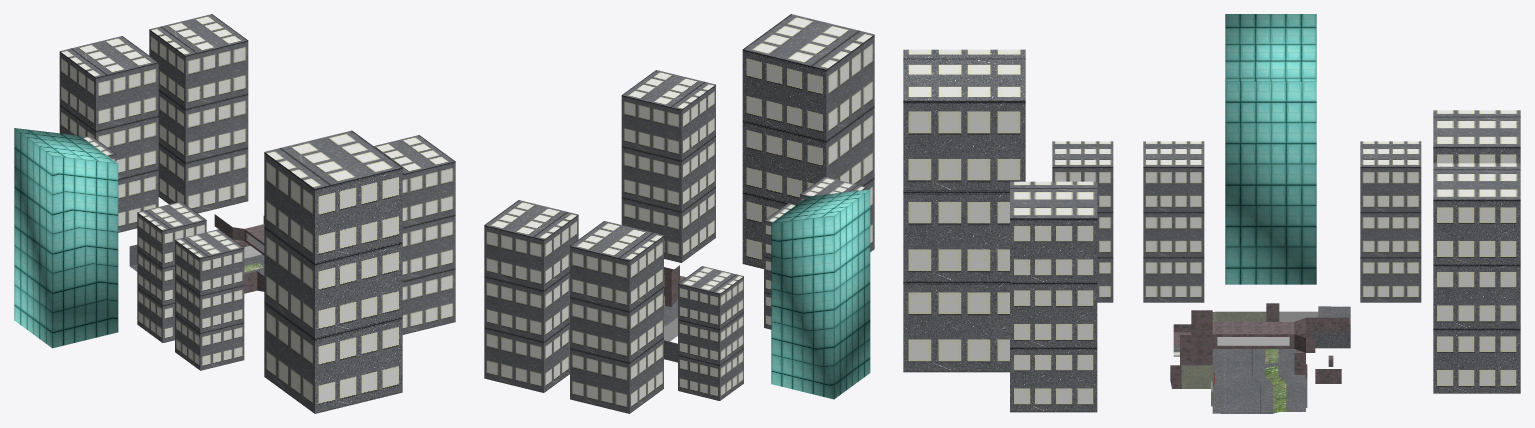
The model's file is testlevel.glb.
3 views of the same model, side by side, from view 1: azimuth 30°, elevation 25°; view 2: azimuth 150°, elevation 25°; view 3: azimuth 270°, elevation 25° (orthographic). The views are drawn at different scales.
Parts seen in each view (by area): view 1: apartment.005, apartment.004, apartment.002, apartment.006, apartment.001, apartment.008, apartment.003, base; view 2: apartment.005, apartment.004, apartment.006, apartment.001, apartment.002, apartment.007, base, apartment.003, apartment.008; view 3: apartment.005, apartment.004, apartment.001, apartment.002, base, apartment.003, apartment.007, apartment.006, apartment.008.
Part boxes in pixels (<box>): apartment.005: <box>264,130,402,413</box>; apartment.004: <box>14,128,118,348</box>; apartment.002: <box>149,14,248,213</box>; apartment.006: <box>59,36,158,232</box>; apartment.001: <box>374,135,455,334</box>; apartment.008: <box>175,229,244,370</box>; apartment.003: <box>137,201,206,342</box>; base: <box>129,214,264,293</box>; apartment.005: <box>742,14,874,268</box>; apartment.004: <box>771,189,870,399</box>; apartment.006: <box>570,221,663,413</box>; apartment.001: <box>621,70,715,262</box>; apartment.002: <box>484,200,578,392</box>; apartment.007: <box>678,266,743,400</box>; base: <box>664,265,685,362</box>; apartment.003: <box>764,203,795,329</box>; apartment.008: <box>800,176,865,201</box>; apartment.005: <box>903,49,1025,372</box>; apartment.004: <box>1225,14,1316,284</box>; apartment.001: <box>1010,181,1097,412</box>; apartment.002: <box>1433,163,1520,393</box>; base: <box>1170,303,1350,413</box>; apartment.003: <box>1143,141,1204,302</box>; apartment.007: <box>1360,141,1421,302</box>; apartment.006: <box>1433,110,1520,163</box>; apartment.008: <box>1052,141,1113,302</box>.
Size of the model in its own units: 269 by 185 by 381.
15 materials, 6 textured.
